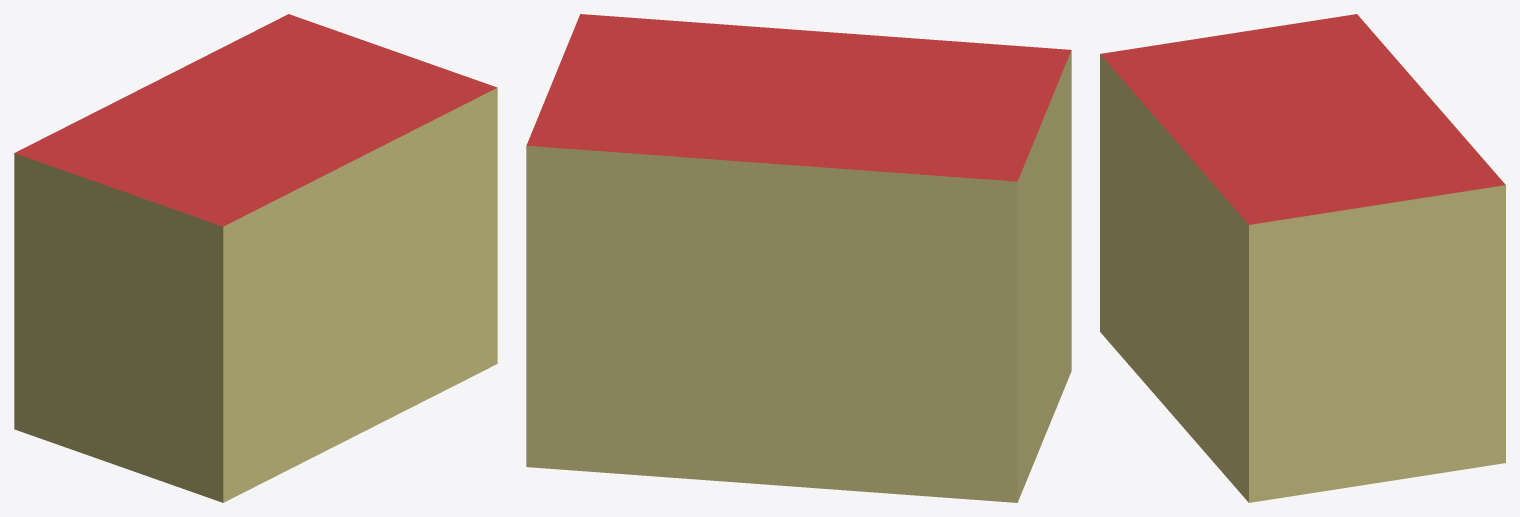
3 renders of one model, left to right at view 1: azimuth 30°, elevation 25°; view 2: azimuth 150°, elevation 25°; view 3: azimuth 270°, elevation 25°, orthographic. The views are drawn at different scales.
Bounding box in the file's own units: 9.11 × 7.41 × 5.6.
